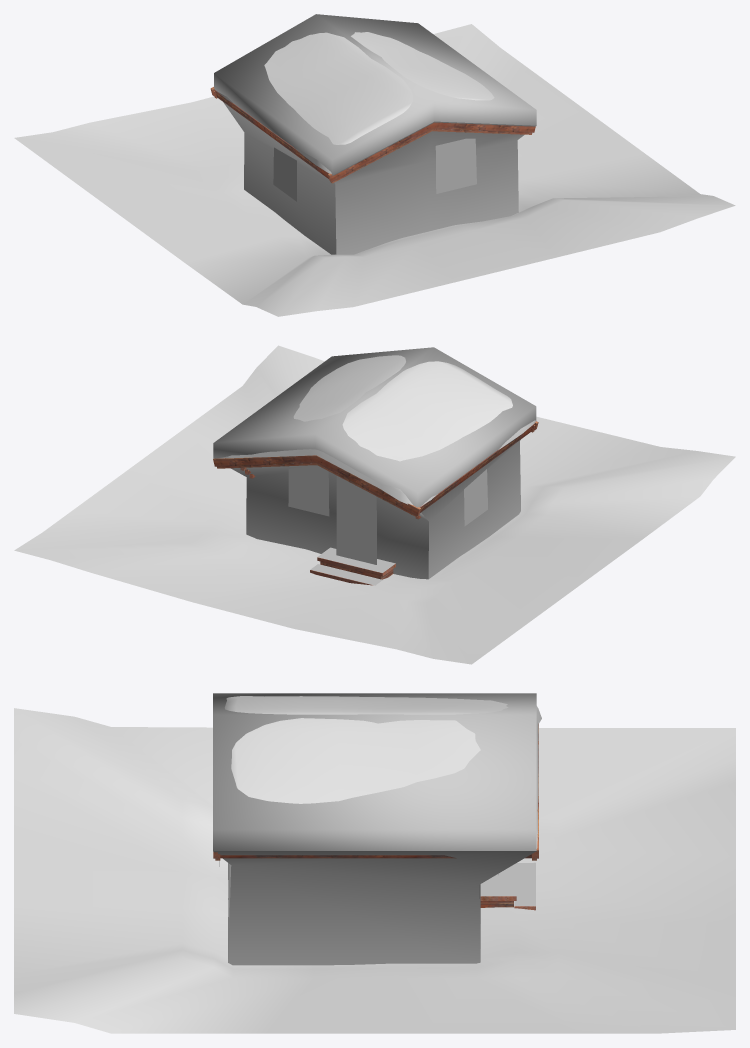
File: SmallHut01.FBX
3 views of the same model, one above another, from view 1: azimuth 30°, elevation 25°; view 2: azimuth 150°, elevation 25°; view 3: azimuth 270°, elevation 25° (orthographic). The views are drawn at different scales.
Visible parts, largest first — view 1: GroundMold, CabinLOD, SnowRoof, Hut01; view 2: GroundMold, CabinLOD, SnowRoof, Hut01, HutPorch; view 3: GroundMold, CabinLOD, SnowRoof, HutPorch, Hut01.
Part boxes in pixels (bbox=[...]): GroundMold: bbox=[14, 24, 735, 316]; CabinLOD: bbox=[214, 14, 536, 254]; SnowRoof: bbox=[217, 32, 494, 173]; Hut01: bbox=[210, 87, 535, 183]; GroundMold: bbox=[14, 345, 735, 664]; CabinLOD: bbox=[213, 347, 536, 579]; SnowRoof: bbox=[215, 355, 535, 506]; Hut01: bbox=[213, 421, 538, 519]; HutPorch: bbox=[310, 547, 395, 585]; GroundMold: bbox=[14, 708, 735, 1033]; CabinLOD: bbox=[213, 693, 536, 965]; SnowRoof: bbox=[224, 696, 541, 848]; HutPorch: bbox=[480, 862, 535, 910]; Hut01: bbox=[213, 723, 538, 860].
Size of the model in its own units: 1.36 by 0.4164 by 1.36.
